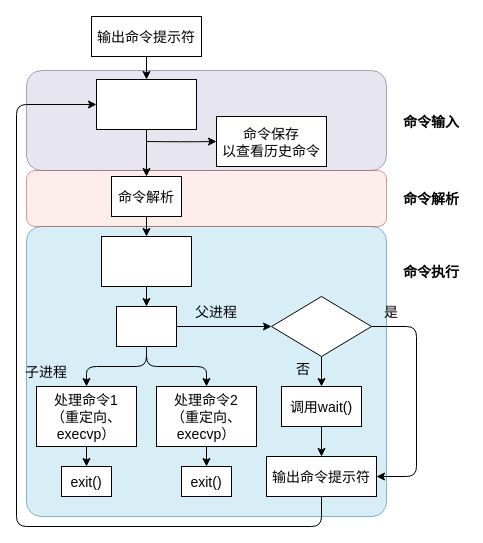
Image size: 483x543. Some labels were removed from this diagram. Each missing label, with the centre of its shape:
fork(): point 146,326
GNU readline 获取命令输入: point 146,104
后台运行？: point 321,326
处理命令 间管道: point 146,261
